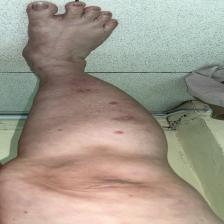Dermatitis kontak alergi: (104, 124, 130, 140)
Psoriasis vulgaris: (90, 95, 127, 109), (100, 186, 136, 200), (101, 172, 120, 182)
